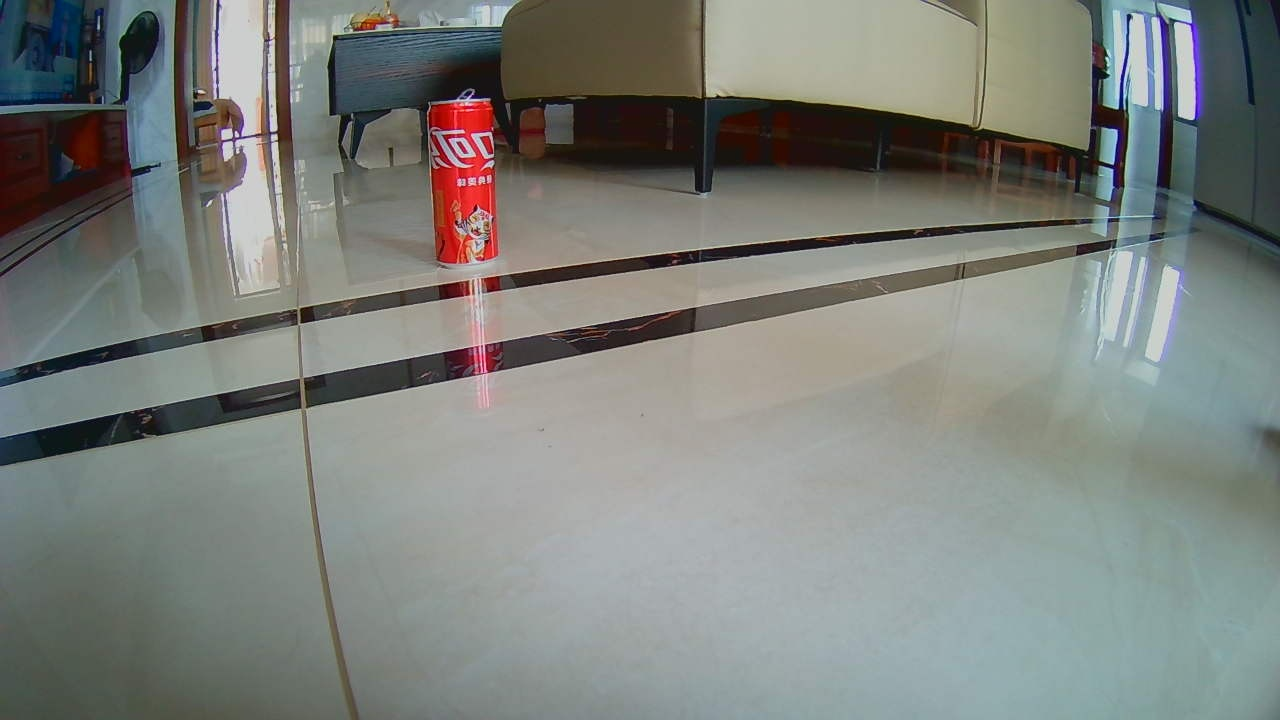cola: (424, 96, 502, 267)
